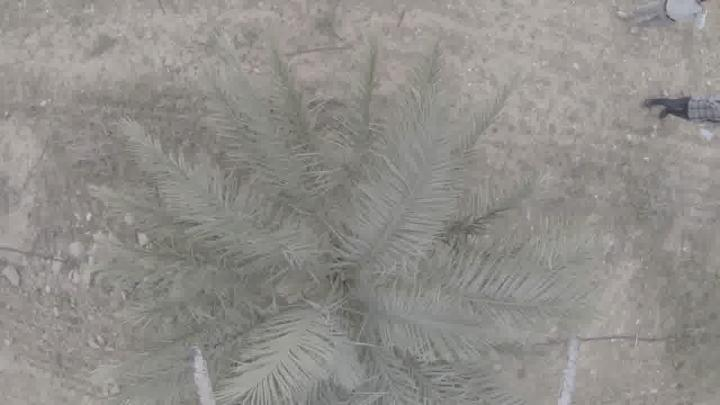Date-Palm-Crown: (219, 125, 473, 401)
